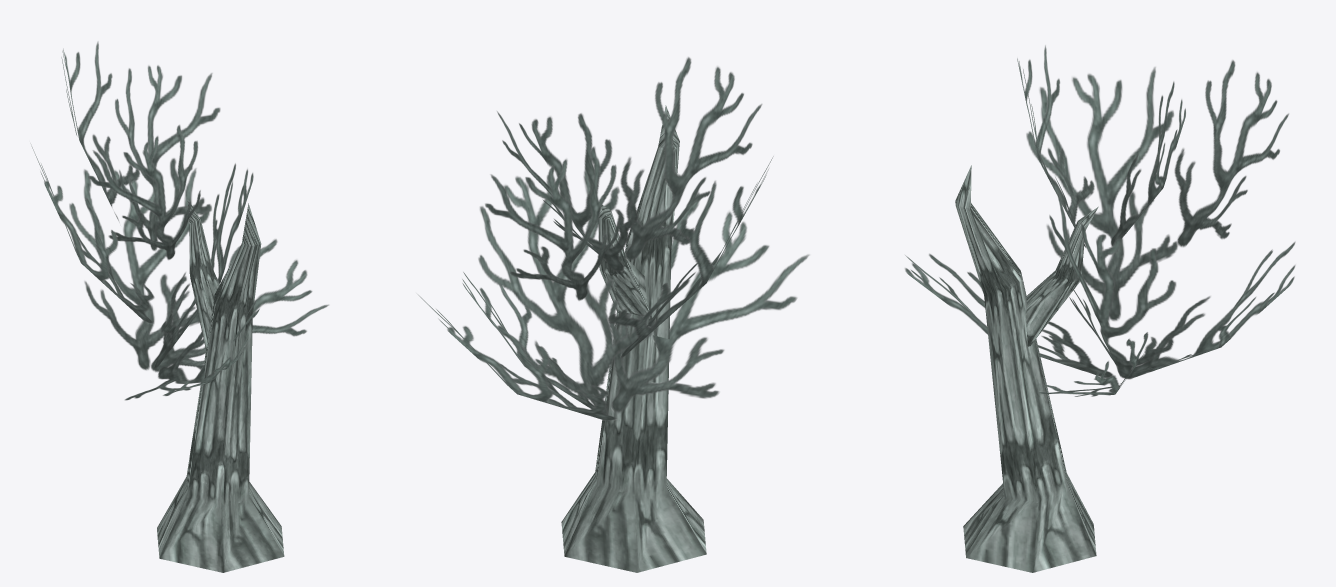
The picture shows the model from 3 angles, left to right: view 1: azimuth 30°, elevation 25°; view 2: azimuth 150°, elevation 25°; view 3: azimuth 270°, elevation 25°; orthographic projection. The views are drawn at different scales.
Parts seen in each view (by area): view 1: branches_gray, trunk_gray; view 2: branches_gray, trunk_gray; view 3: branches_gray, trunk_gray.
Part boxes in pixels (x1,y1,x2,y2): branches_gray: [30, 41, 329, 400]; trunk_gray: [157, 198, 284, 572]; branches_gray: [417, 57, 809, 420]; trunk_gray: [561, 105, 706, 572]; branches_gray: [904, 45, 1295, 396]; trunk_gray: [955, 165, 1098, 572].
Bounding box in the file's own units: 213 × 341 × 281.
Materials: 2 (2 with a texture image).
